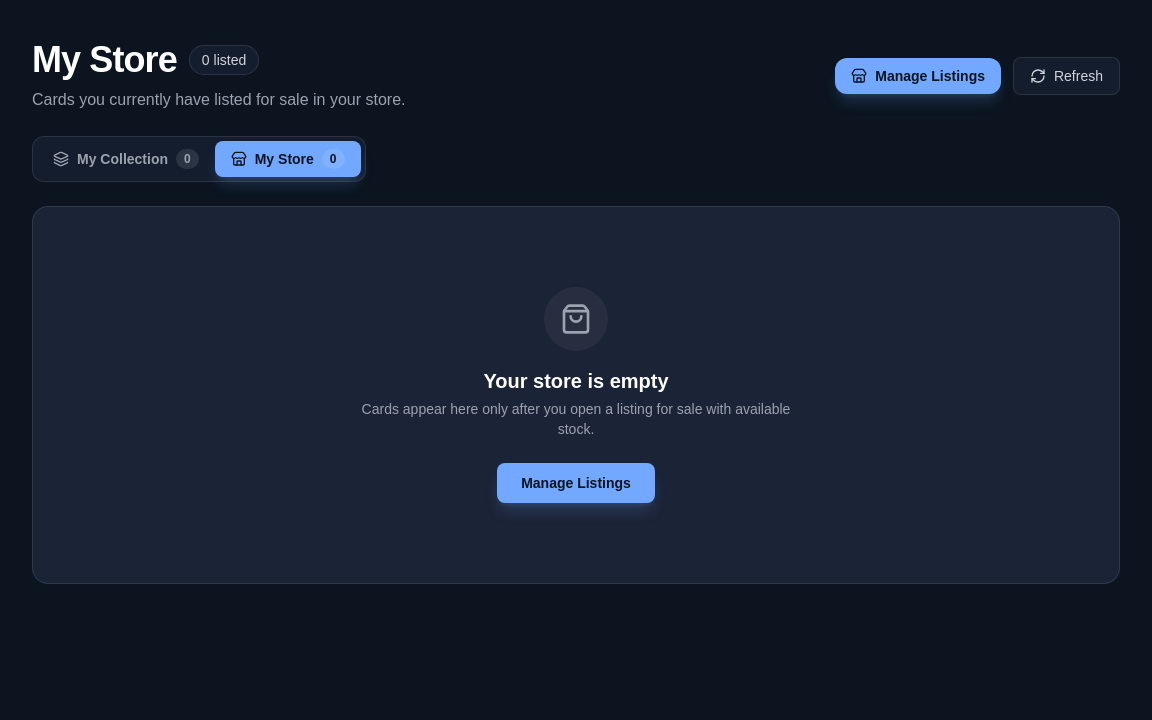
Scenario: MyCollectionPage seller collection/store toggle › shows separate empty states for an empty seller store and empty buyer collection
Expected: the heading "Your store is empty" is shown, [483,370,669,392]
Step 1. Click the tab "My Collection 0" → {"x": 126, "y": 159}, box [37,141,215,177]
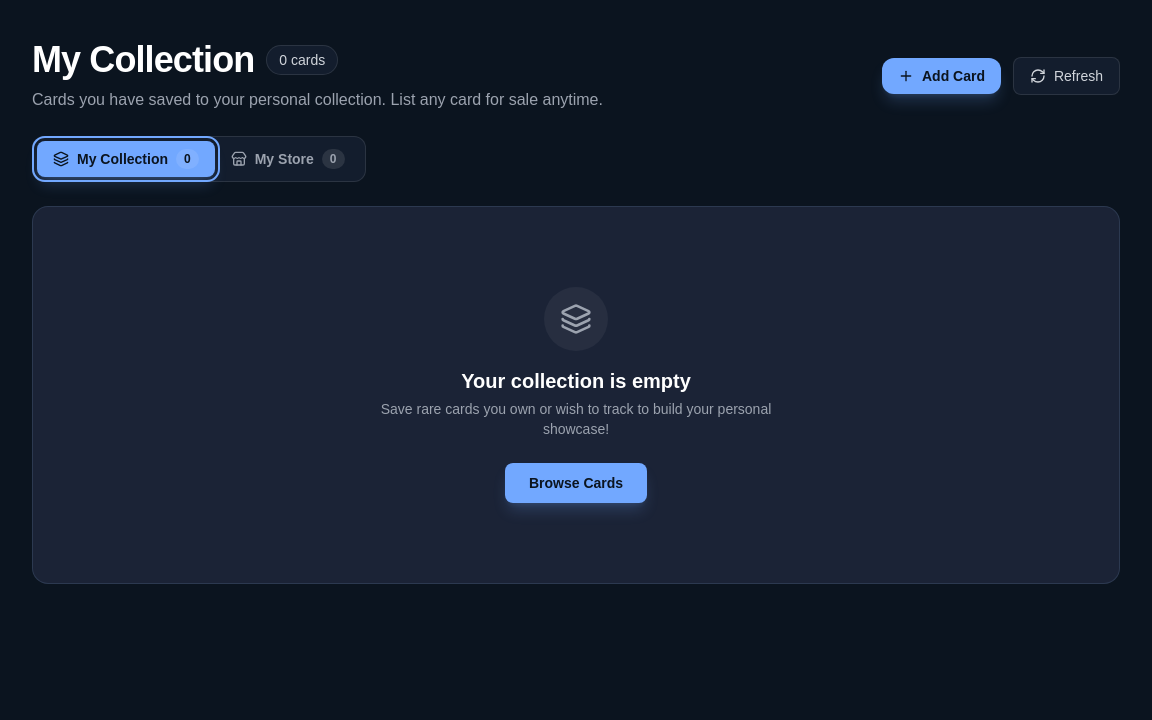
Now the heading "Your collection is empty" is shown, box [461,370,691,392]
